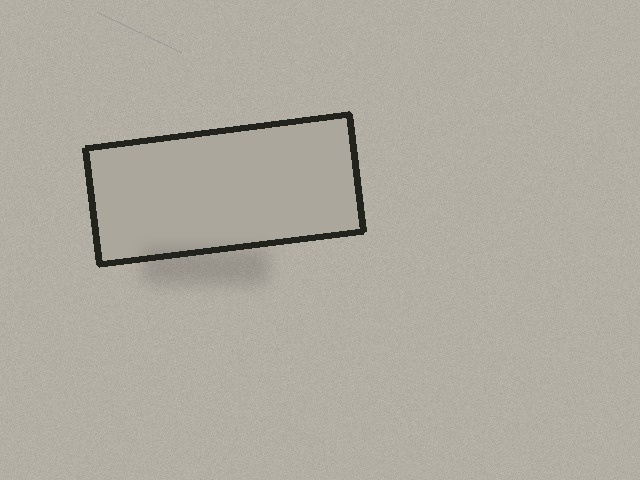parking_area: (85, 114, 363, 264)
